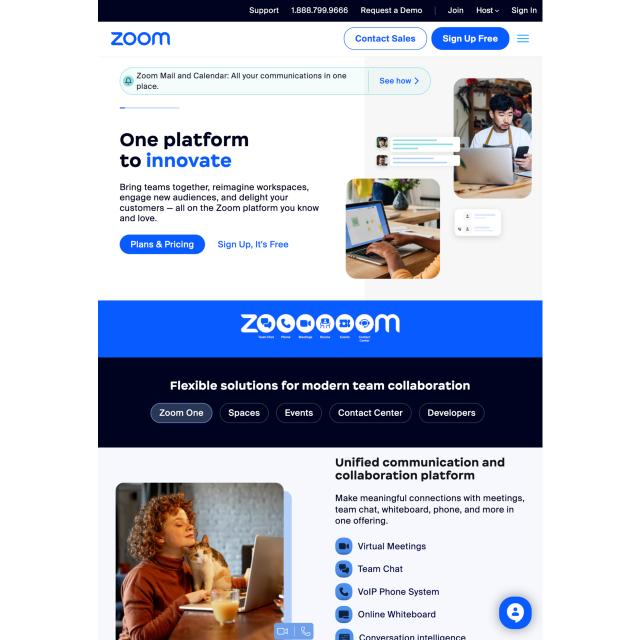logo: (109, 29, 173, 49)
navigation: (98, 0, 542, 22), (515, 30, 532, 47)
progress bar: (116, 104, 180, 112)
